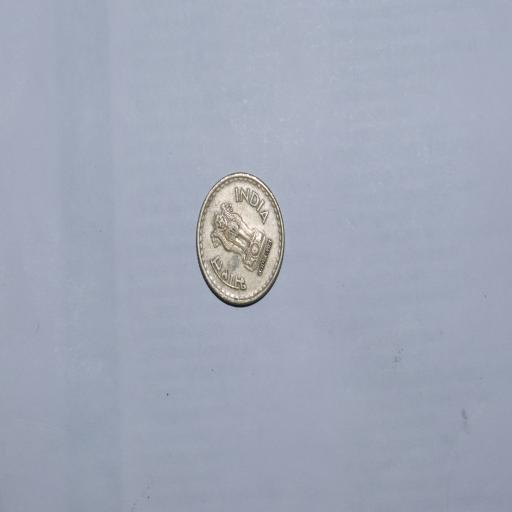rupee5: (194, 172, 287, 310)
